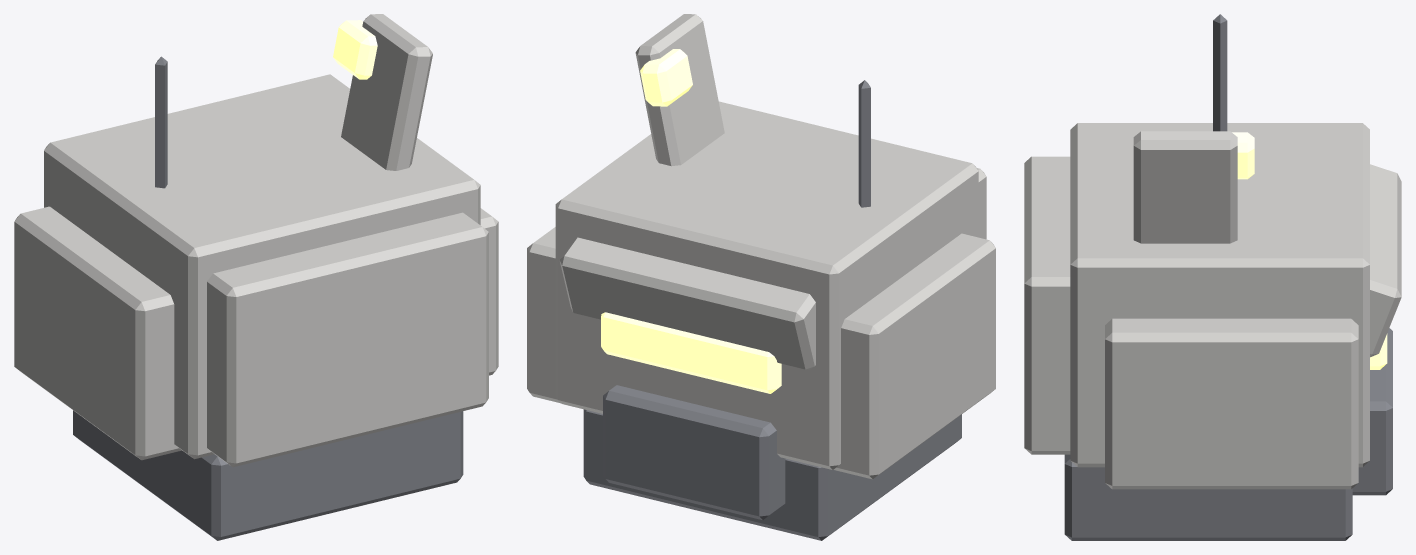
Rendered from hero3_head.glb.
3 views of the same model, side by side, from view 1: azimuth 30°, elevation 25°; view 2: azimuth 150°, elevation 25°; view 3: azimuth 270°, elevation 25° (orthographic). The views are drawn at different scales.
Visible parts, largest first — view 1: hero3_head; view 2: hero3_head; view 3: hero3_head.
Part boxes in pixels (box(x1,y1,x2,y2)): hero3_head: box(14, 14, 498, 540); hero3_head: box(527, 14, 995, 540); hero3_head: box(1024, 14, 1401, 540).
Size of the model in its own units: 0.72 by 0.805 by 0.6548.
